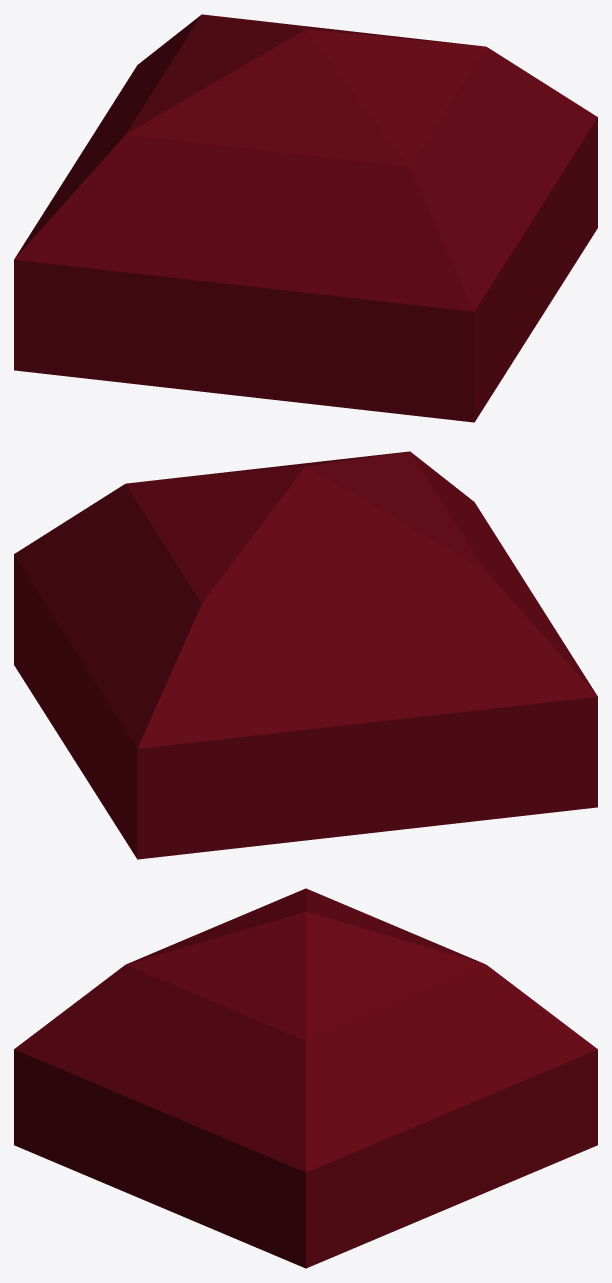
The model's file is gemstone.fbx.
3 views of the same model, one above another, from view 1: azimuth 30°, elevation 25°; view 2: azimuth 150°, elevation 25°; view 3: azimuth 270°, elevation 25° (orthographic). The views are drawn at different scales.
Visible parts, largest first — view 1: gemstone; view 2: gemstone; view 3: gemstone.
Part boxes in pixels (x1,y1,x2,y2): gemstone: (14, 14, 597, 422); gemstone: (14, 451, 597, 859); gemstone: (14, 888, 597, 1268).
Bounding box in the file's own units: 6.09 × 2.69 × 6.09.
